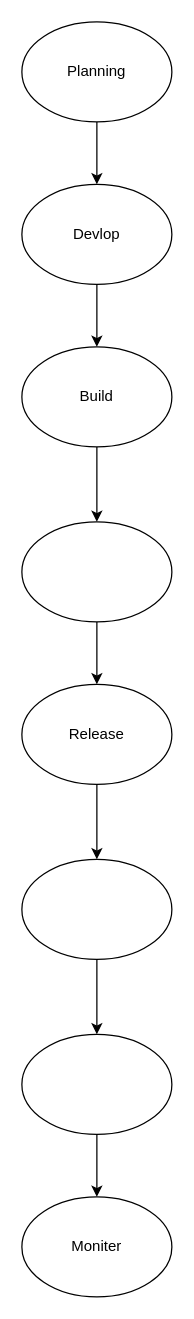
This 194x1319 diagram has some shape labels left out. Each missing label, with the box of its shape:
deploy: (21, 858, 172, 959)
operate: (21, 1033, 172, 1134)
Testing: (21, 521, 172, 622)
